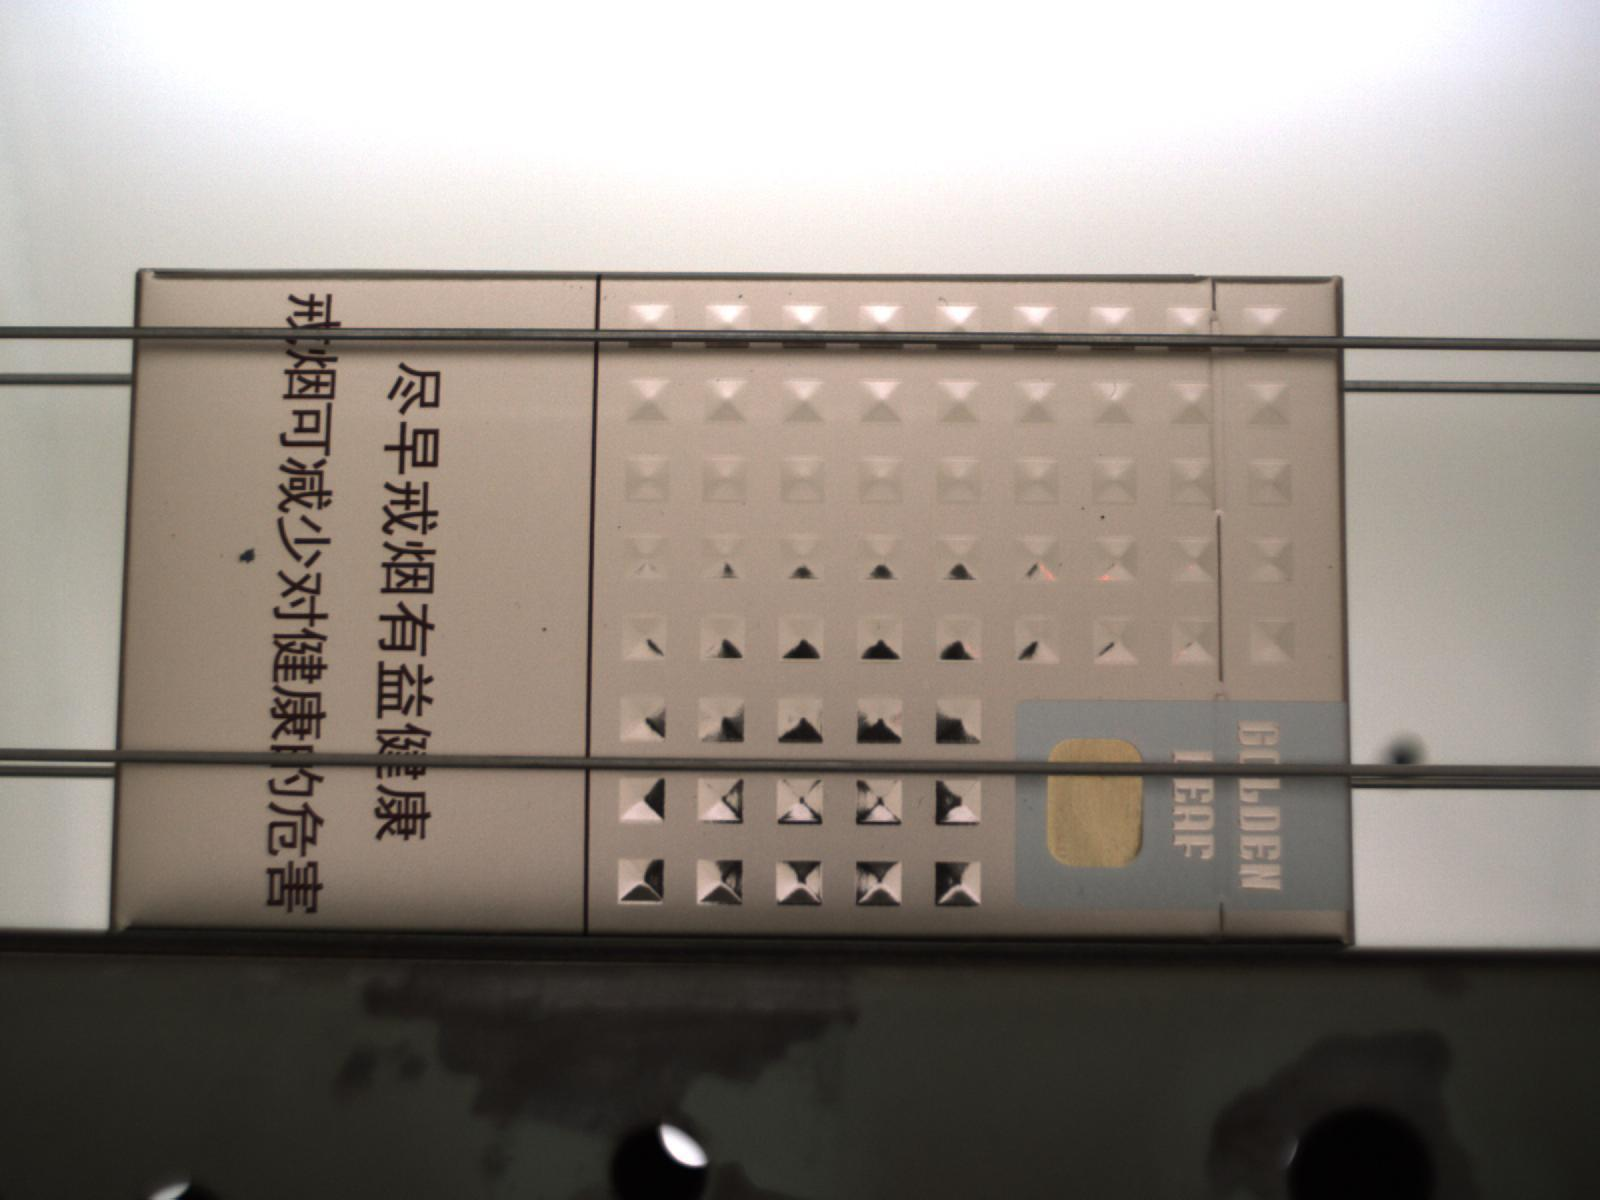dirtyOil: (238, 546, 257, 563)
dirtySpot: (238, 546, 257, 563), (169, 532, 179, 542), (736, 292, 746, 303), (787, 289, 797, 297), (1175, 679, 1184, 689), (1327, 562, 1335, 571), (750, 367, 758, 376), (915, 798, 923, 807), (217, 552, 226, 561), (1078, 504, 1087, 513), (616, 522, 625, 531), (939, 295, 947, 304), (1099, 513, 1107, 522), (656, 509, 665, 518), (601, 292, 609, 301), (600, 621, 609, 629), (540, 626, 548, 634), (1057, 560, 1065, 567), (577, 284, 585, 291), (1097, 451, 1104, 458)
